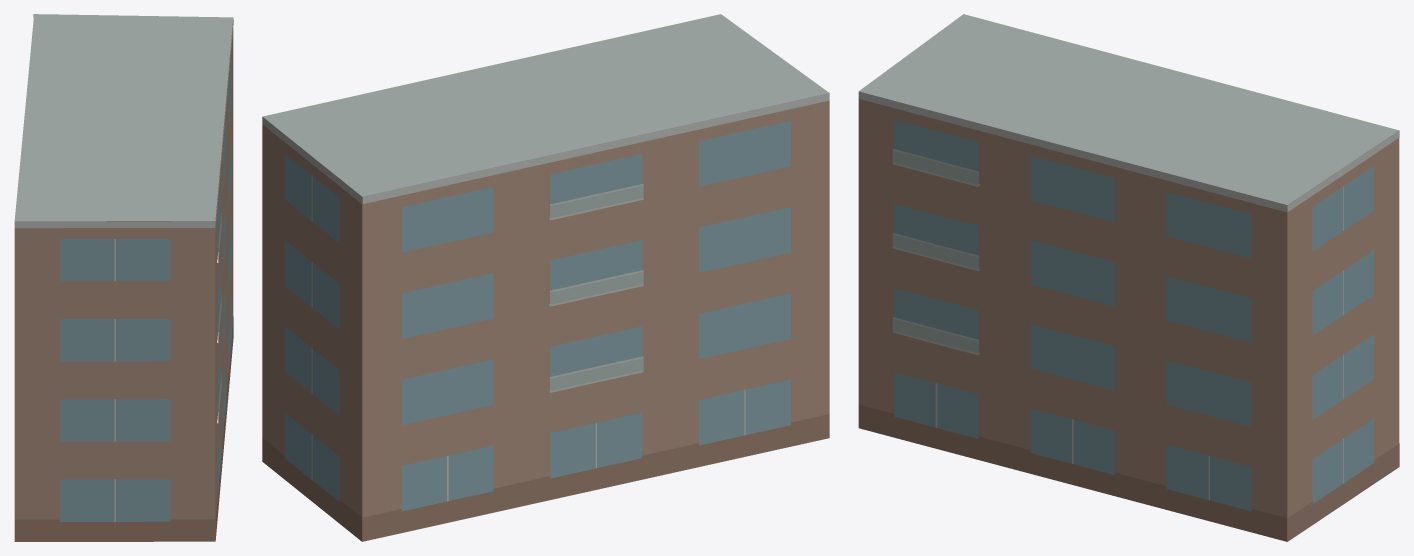
The model's file is survey-upis-33018152.glb.
3 renders of one model, left to right at view 1: azimuth 30°, elevation 25°; view 2: azimuth 150°, elevation 25°; view 3: azimuth 270°, elevation 25°, orthographic. The views are drawn at different scales.
Visible parts, largest first — view 1: survey-upis-33018152.tmp; view 2: survey-upis-33018152.tmp; view 3: survey-upis-33018152.tmp.
Part boxes in pixels (x1,y1,x2,y2): survey-upis-33018152.tmp: (14, 14, 233, 541); survey-upis-33018152.tmp: (262, 14, 829, 541); survey-upis-33018152.tmp: (858, 14, 1399, 541).
Size of the model in its own units: 13.64 by 11.2 by 16.31.
